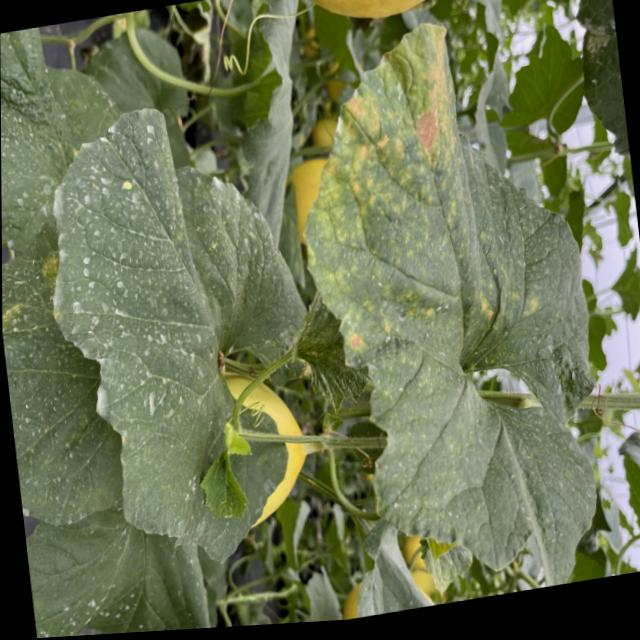alternaria leaf blight: (290, 12, 612, 602), (569, 0, 632, 176)
downy mildew: (45, 91, 329, 544)
